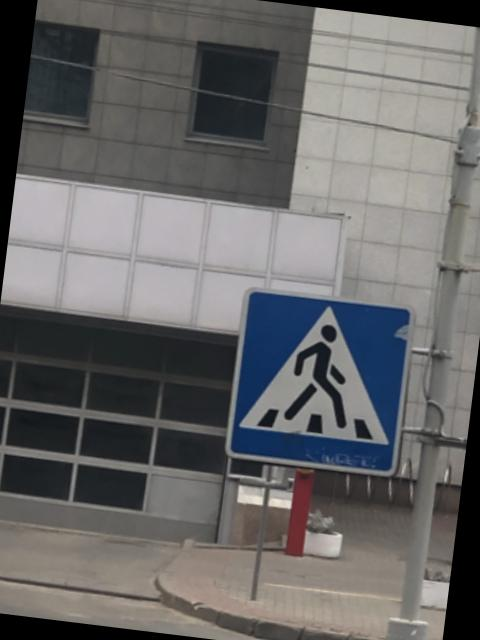crosswalk-sign: (222, 283, 419, 480)
